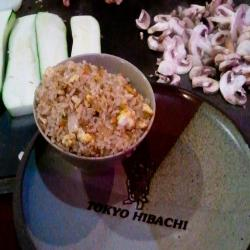rice: (29, 63, 163, 163)
